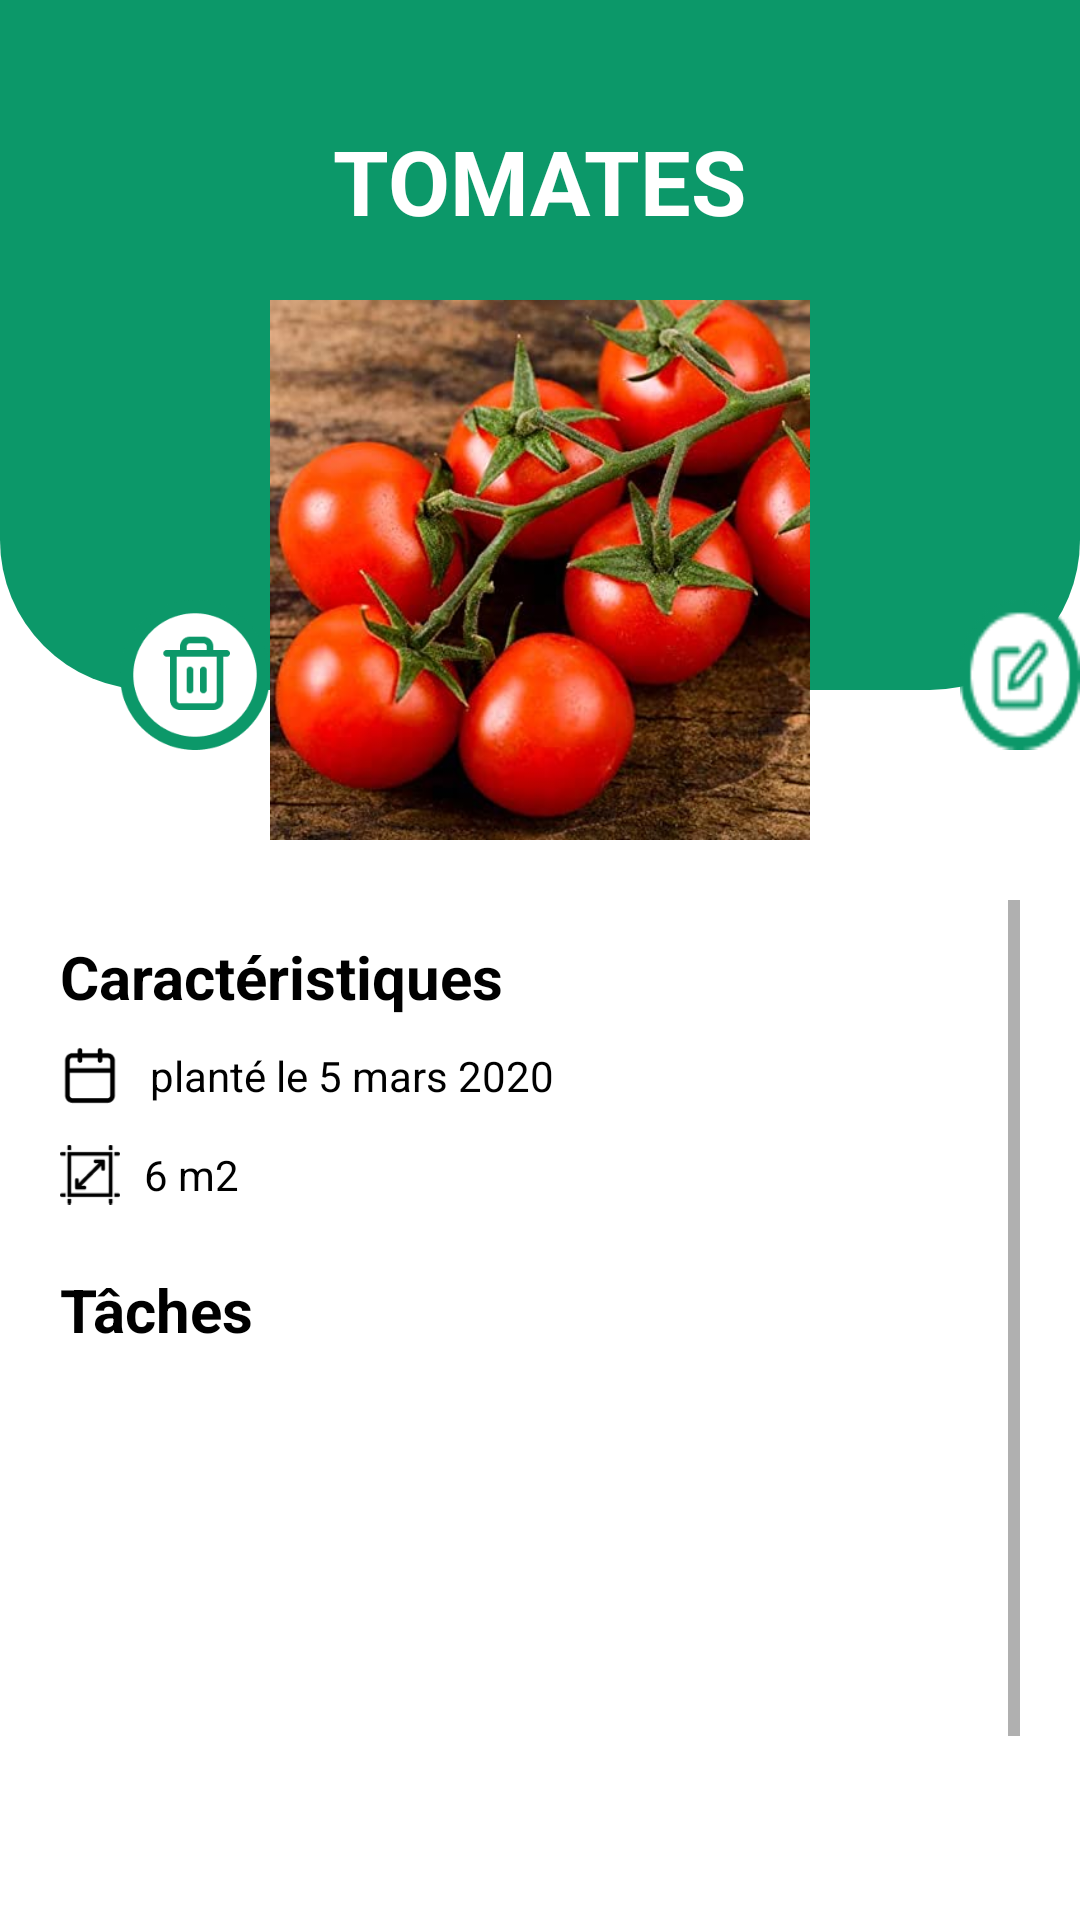

Point at icon controls on the screen. Image size 1080px×1920px, points as (x,y).
calendar pic: (90,1075)
size: (90,1175)
trash: (195,675)
